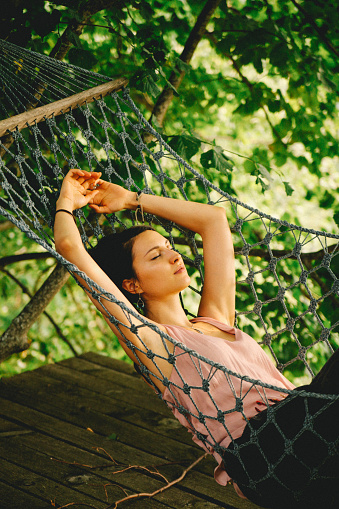deitado: (107, 189, 288, 503)
